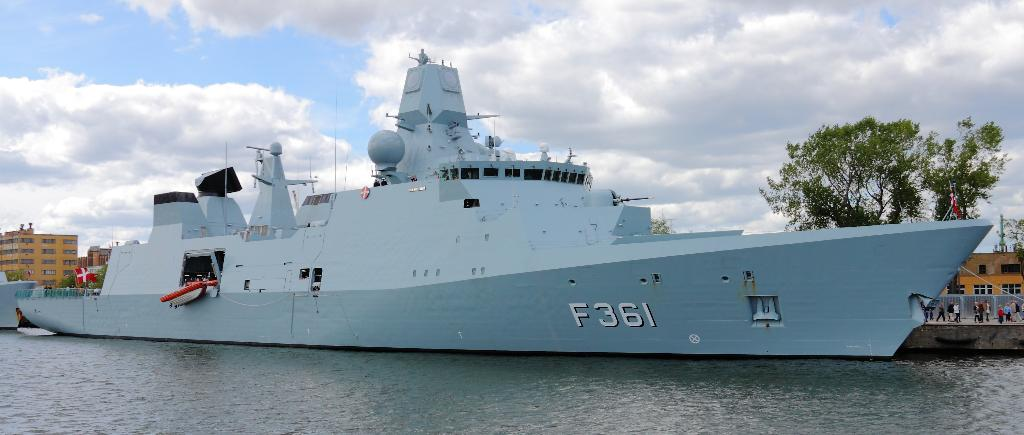Warship: (10, 43, 996, 371)
